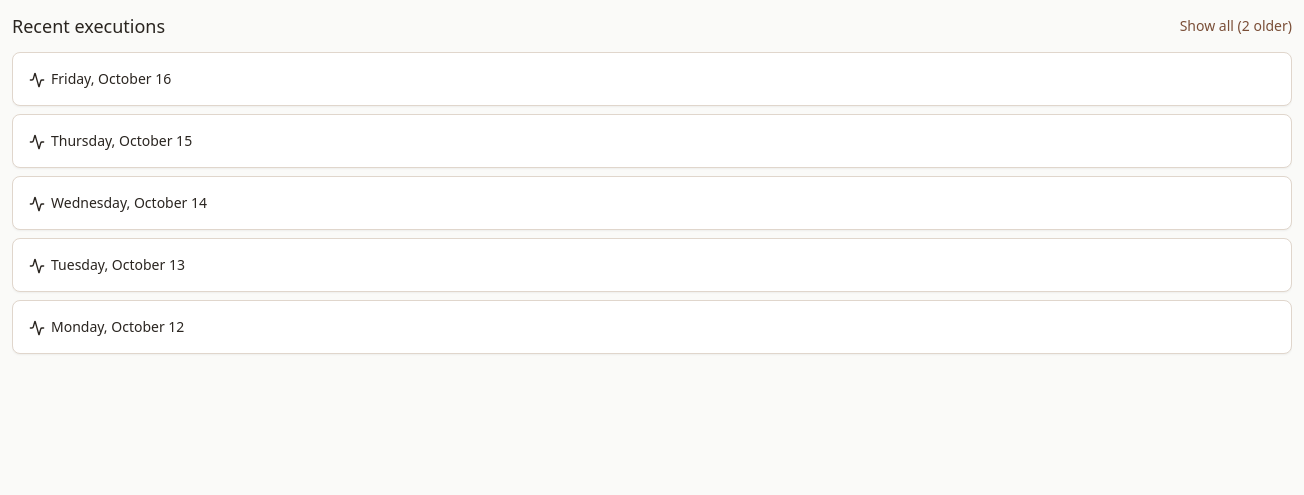
Test case: Show all (N older) when there are more than five; it reads them all, then Last 5
expect the number of buttons titled "Open this completed execution" is 5: met, box [12, 52, 1292, 106]; [12, 114, 1292, 168]; [12, 176, 1292, 230]; [12, 238, 1292, 292]; [12, 300, 1292, 354]
Click the button "Show all (2 older)".
click(1236, 26)  # box [1180, 16, 1292, 36]
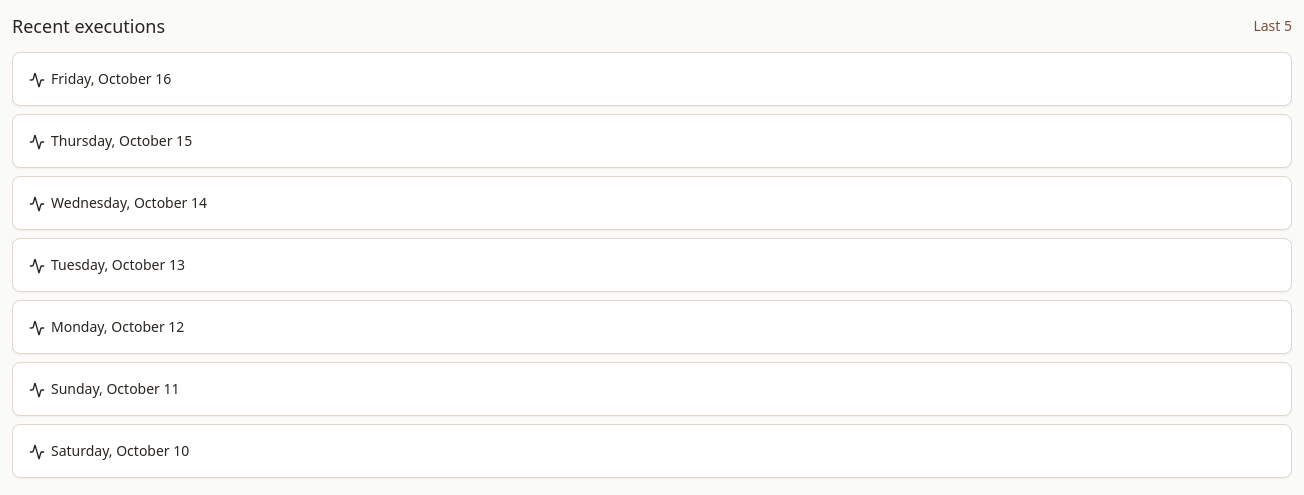
expect the number of buttons titled "Open this completed execution" is 7: met
Click the button "Last 5".
click(1273, 26)  # box [1253, 16, 1292, 36]
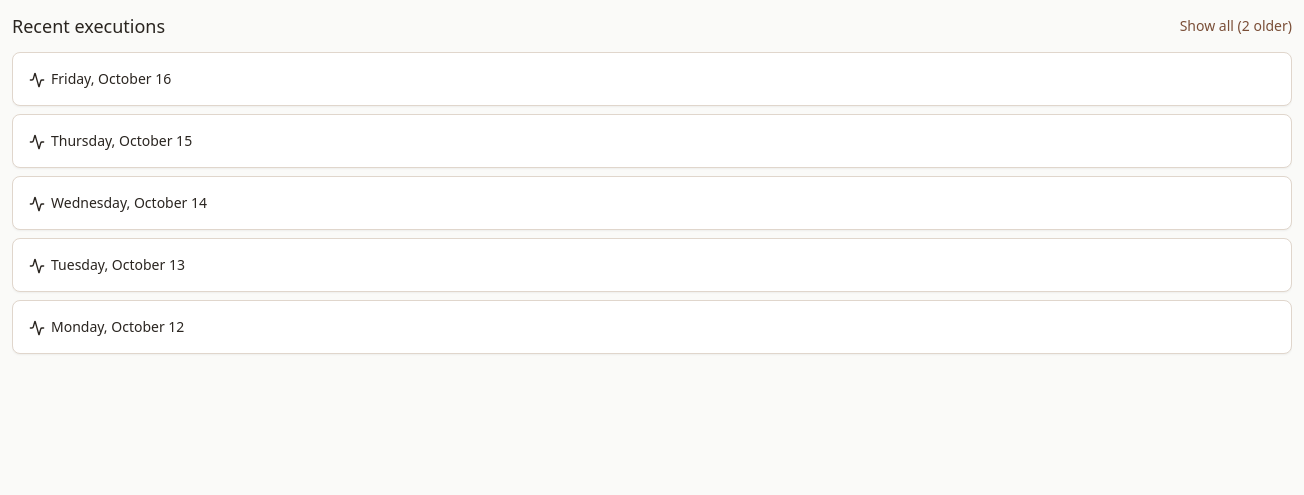
expect the number of buttons titled "Open this completed execution" is 5: met, box [12, 52, 1292, 106]; [12, 114, 1292, 168]; [12, 176, 1292, 230]; [12, 238, 1292, 292]; [12, 300, 1292, 354]
